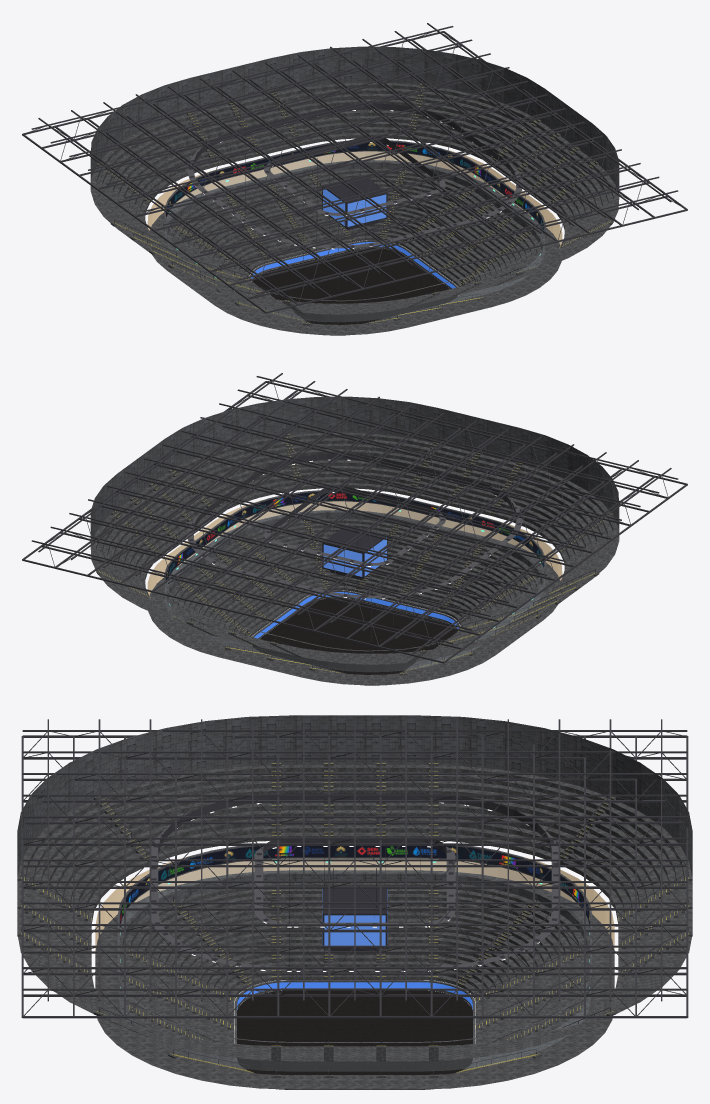
The model's file is badminton_arena.glb.
3 renders of one model, top to bottom at view 1: azimuth 30°, elevation 25°; view 2: azimuth 150°, elevation 25°; view 3: azimuth 270°, elevation 25°, orthographic. The views are drawn at different scales.
Visible parts, largest first — view 1: Steps.001, Steel.001, Walls.001, Apron.001, Glass.001, Suite, Wrap.001, Grating, Dark.001, Nosing.006, Screen.001, Ribbon.001; view 2: Steps.001, Steel.001, Walls.001, Apron.001, Glass.001, Suite, Wrap.001, Grating, Dark.001, Nosing.006, Screen.001, Ribbon.001; view 3: Steps.001, Steel.001, Walls.001, Apron.001, Glass.001, Suite, Wrap.001, Grating, Dark.001, Nosing.006, Screen.001, Ribbon.001.
Boxes of the visible parts, left/top/right/bottom form: Steps.001: left=90, top=82, right=619, bottom=335; Steel.001: left=22, top=23, right=687, bottom=324; Walls.001: left=90, top=46, right=619, bottom=301; Apron.001: left=253, top=248, right=457, bottom=335; Glass.001: left=165, top=151, right=544, bottom=321; Suite: left=147, top=149, right=562, bottom=245; Wrap.001: left=165, top=142, right=544, bottom=232; Grating: left=187, top=148, right=522, bottom=248; Dark.001: left=188, top=109, right=520, bottom=248; Nosing.006: left=99, top=84, right=610, bottom=323; Screen.001: left=323, top=187, right=386, bottom=226; Ribbon.001: left=251, top=242, right=455, bottom=288; Steps.001: left=90, top=432, right=619, bottom=685; Steel.001: left=22, top=373, right=687, bottom=674; Walls.001: left=90, top=396, right=619, bottom=651; Apron.001: left=252, top=598, right=457, bottom=685; Glass.001: left=165, top=501, right=544, bottom=671; Suite: left=147, top=499, right=562, bottom=595; Wrap.001: left=165, top=491, right=544, bottom=583; Grating: left=187, top=498, right=522, bottom=598; Dark.001: left=188, top=459, right=520, bottom=598; Nosing.006: left=99, top=434, right=610, bottom=673; Screen.001: left=323, top=537, right=386, bottom=576; Ribbon.001: left=254, top=592, right=458, bottom=638; Steps.001: left=17, top=762, right=692, bottom=1089; Steel.001: left=21, top=719, right=688, bottom=1074; Walls.001: left=17, top=715, right=692, bottom=1062; Apron.001: left=237, top=990, right=472, bottom=1089; Glass.001: left=119, top=861, right=590, bottom=1071; Suite: left=95, top=857, right=614, bottom=950; Wrap.001: left=120, top=846, right=589, bottom=927; Grating: left=151, top=826, right=558, bottom=970; Dark.001: left=151, top=802, right=558, bottom=970; Nosing.006: left=21, top=763, right=688, bottom=1072; Screen.001: left=322, top=889, right=387, bottom=945; Ribbon.001: left=237, top=982, right=472, bottom=1009.
Size of the model in its own units: 77.9 by 23.01 by 78.
15 materials, 4 textured.
